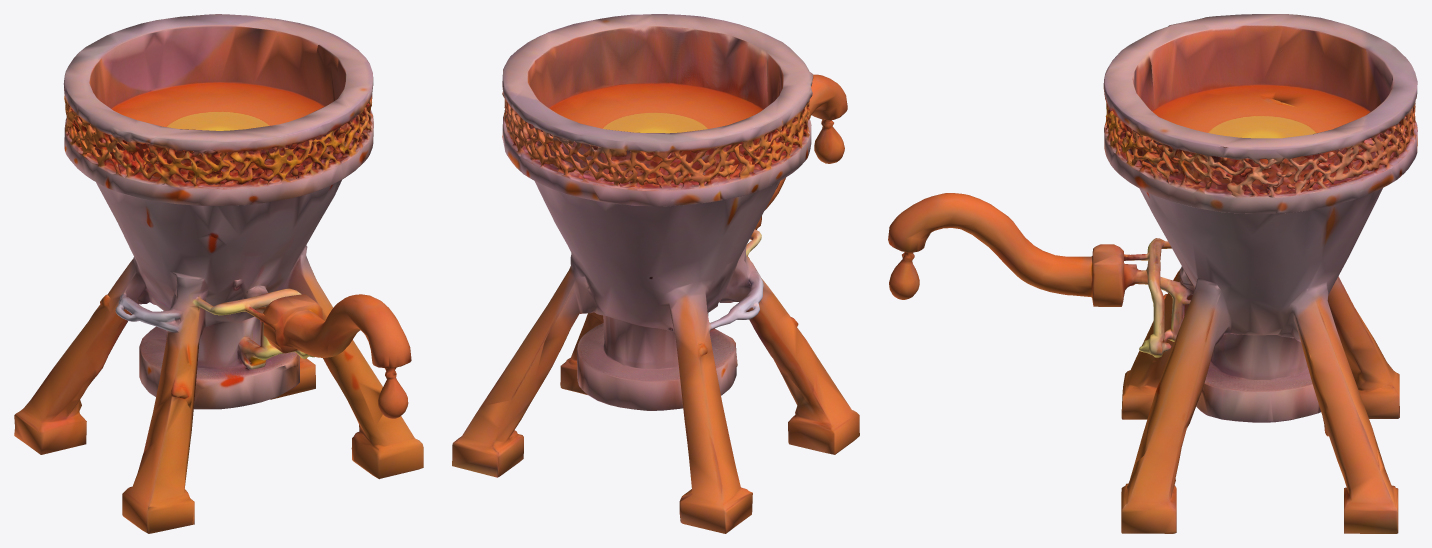
The model's file is seenFilter.glb.
3 views of the same model, side by side, from view 1: azimuth 30°, elevation 25°; view 2: azimuth 150°, elevation 25°; view 3: azimuth 270°, elevation 25° (orthographic). The views are drawn at different scales.
Size of the model in its own units: 1.24 by 1.61 by 2.
Materials: 1 (1 with a texture image).
